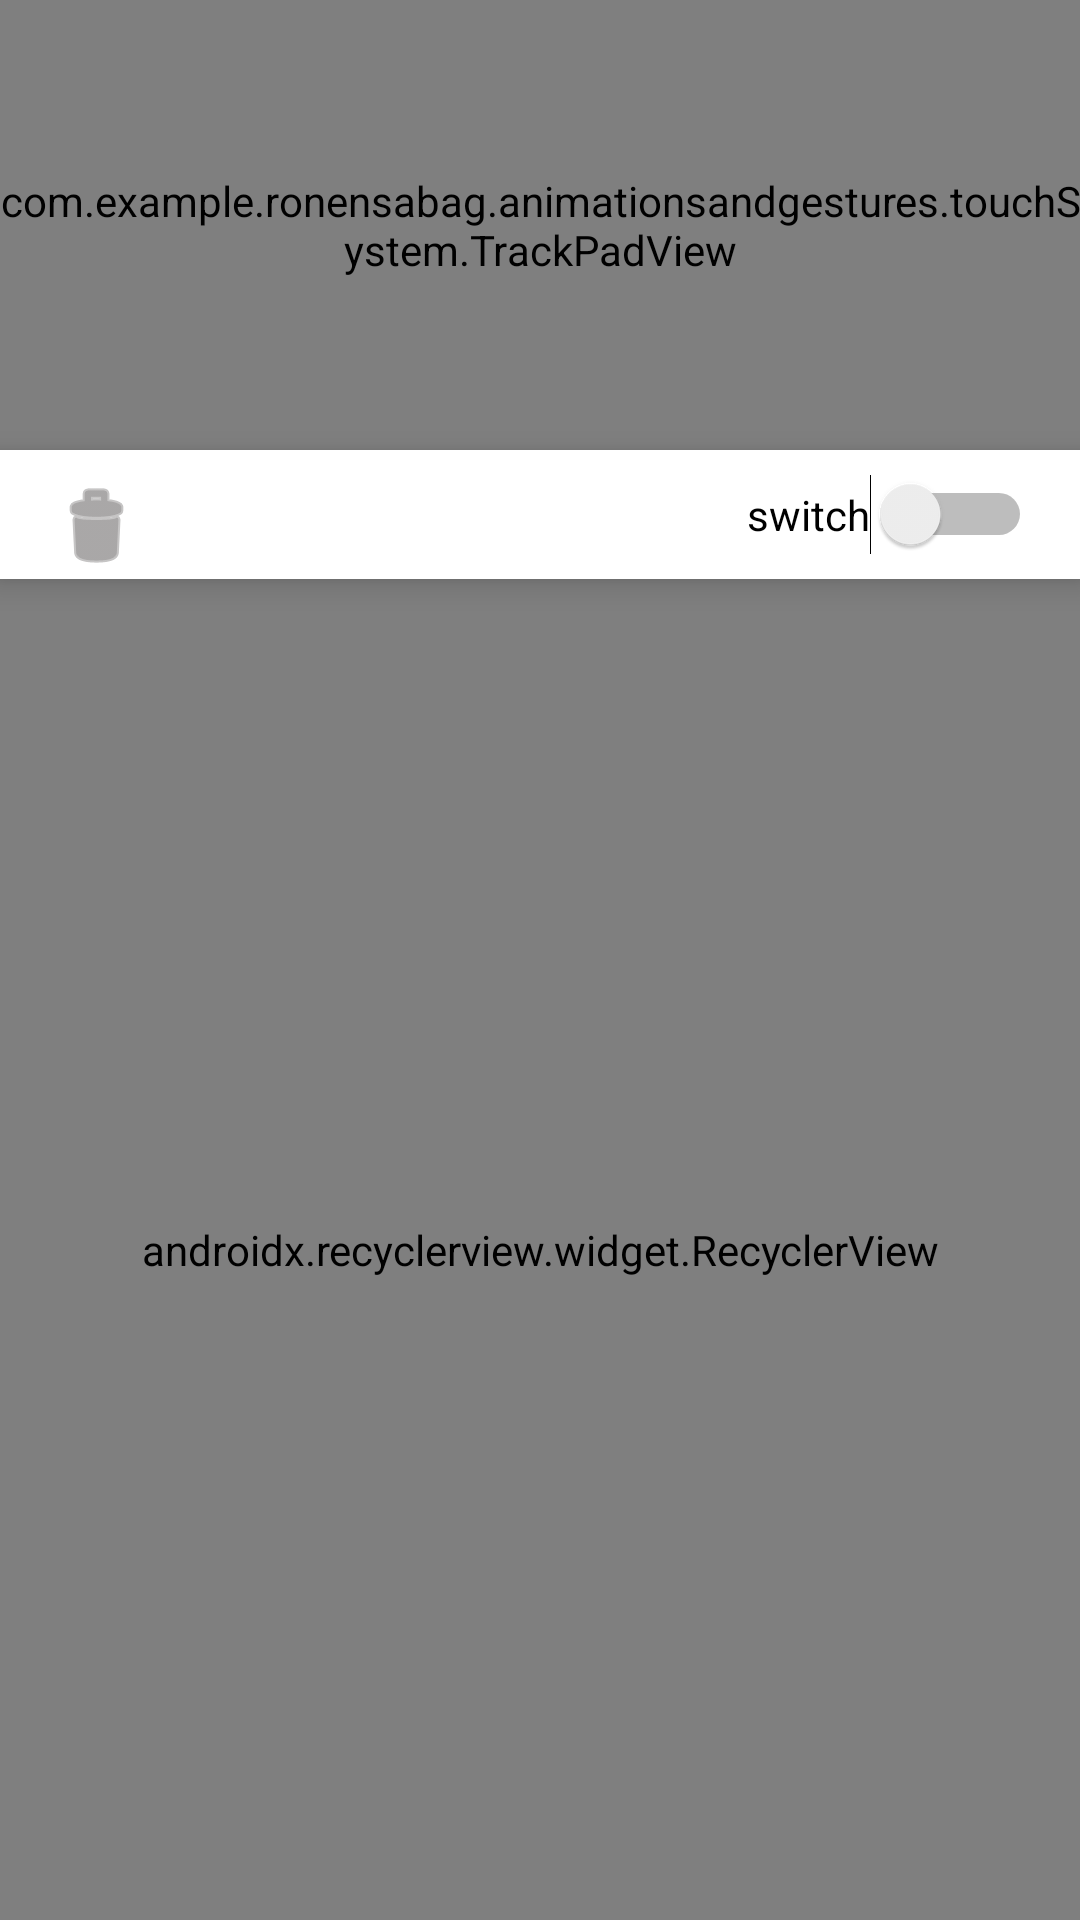

Where icons sit on this 1080x1920 app screen, as detection(x1, y1, x2, y2):
delete logs: detection(70, 488, 123, 563)
